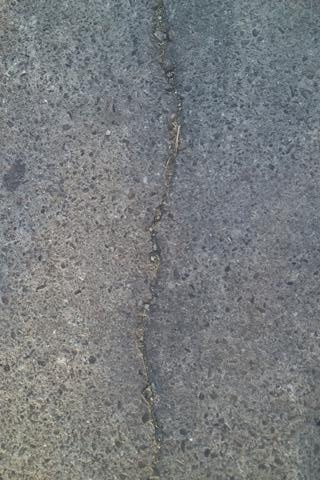A: (136, 1, 188, 480)
